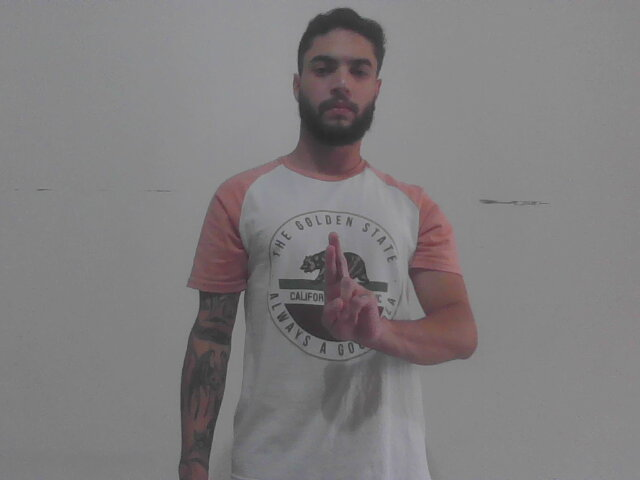r: (307, 226, 386, 361)
